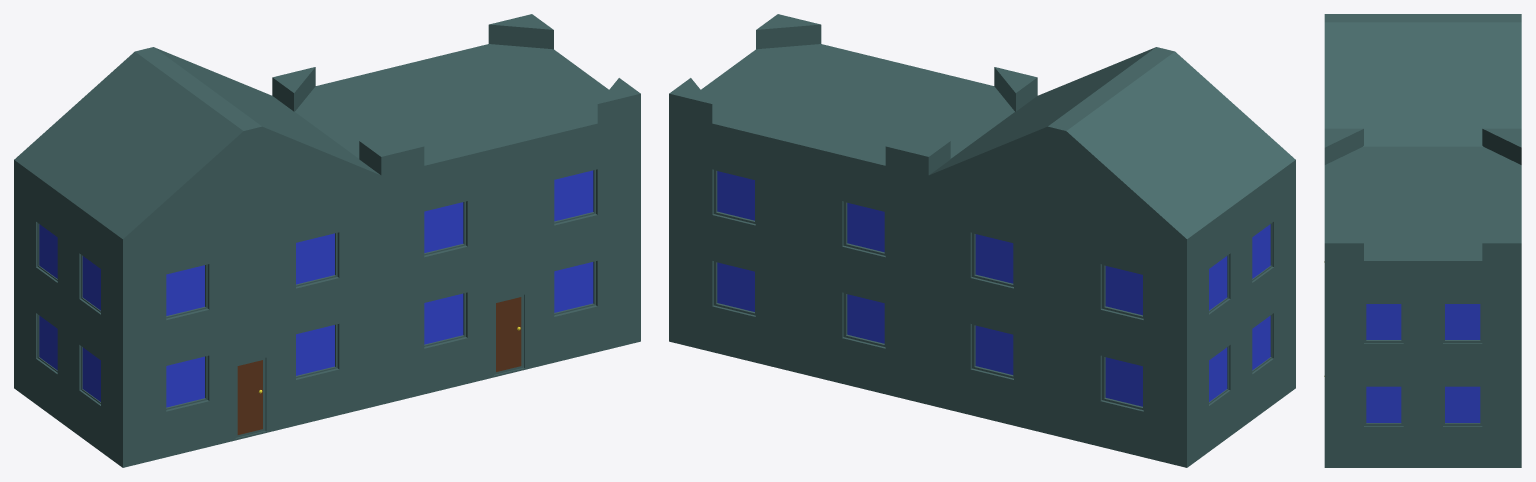
Rendered from House2.fbx.
3 views of the same model, side by side, from view 1: azimuth 30°, elevation 25°; view 2: azimuth 150°, elevation 25°; view 3: azimuth 270°, elevation 25° (orthographic). The views are drawn at different scales.
Visible parts, largest first — view 1: House1.002; view 2: House1.002; view 3: House1.002.
Boxes of the visible parts, x1,y1,x2,y2 form: House1.002: (14,14,640,467); House1.002: (669,14,1295,467); House1.002: (1324,14,1521,467).
Bounding box in the file's own units: 5691 × 3228 × 2074.
